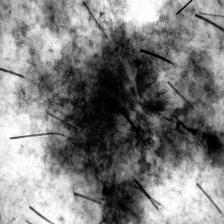Benign Marking or Mole: (31, 17, 222, 224)
